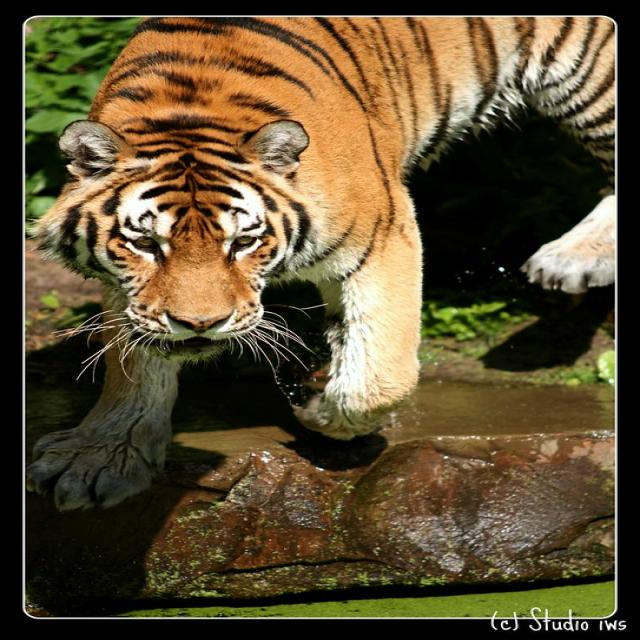Tiger: (27, 16, 611, 514)
